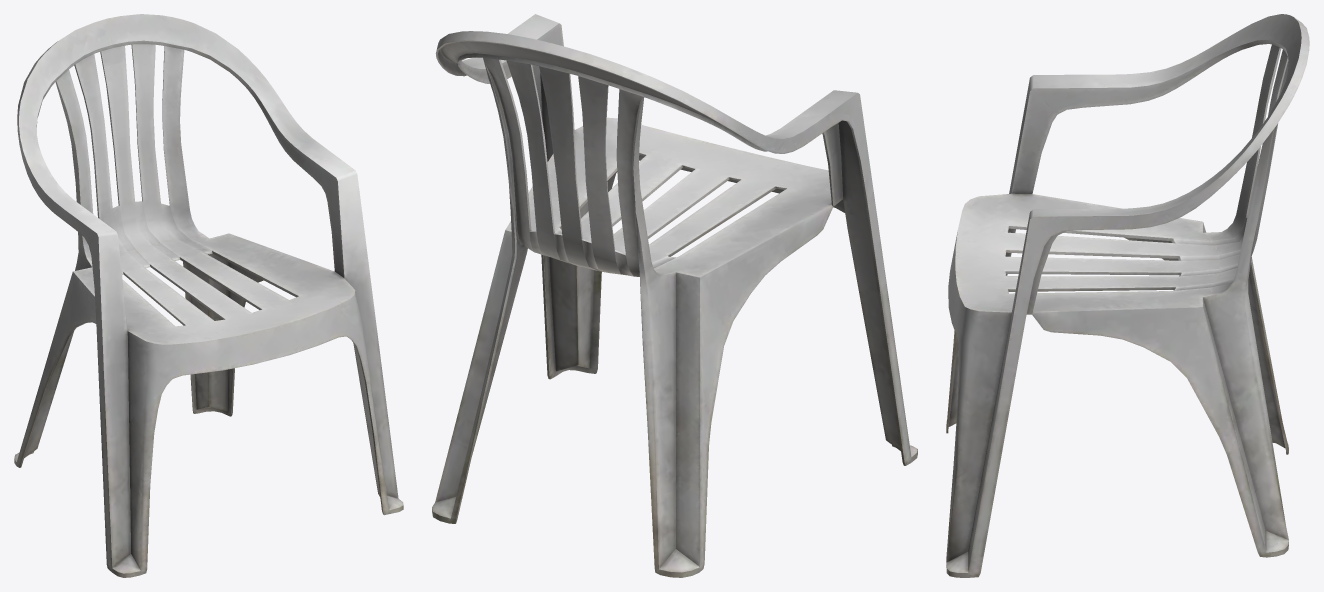
3 views of the same model, side by side, from view 1: azimuth 30°, elevation 25°; view 2: azimuth 150°, elevation 25°; view 3: azimuth 270°, elevation 25° (orthographic). The views are drawn at different scales.
Visible parts, largest first — view 1: plastic_monobloc_chair_01; view 2: plastic_monobloc_chair_01; view 3: plastic_monobloc_chair_01.
Part boxes in pixels (x1,y1,x2,y2): plastic_monobloc_chair_01: (14, 14, 403, 577); plastic_monobloc_chair_01: (432, 14, 917, 577); plastic_monobloc_chair_01: (946, 14, 1309, 577).
Size of the model in its own units: 0.6418 by 0.8798 by 0.6276.
1 material, 1 textured.
